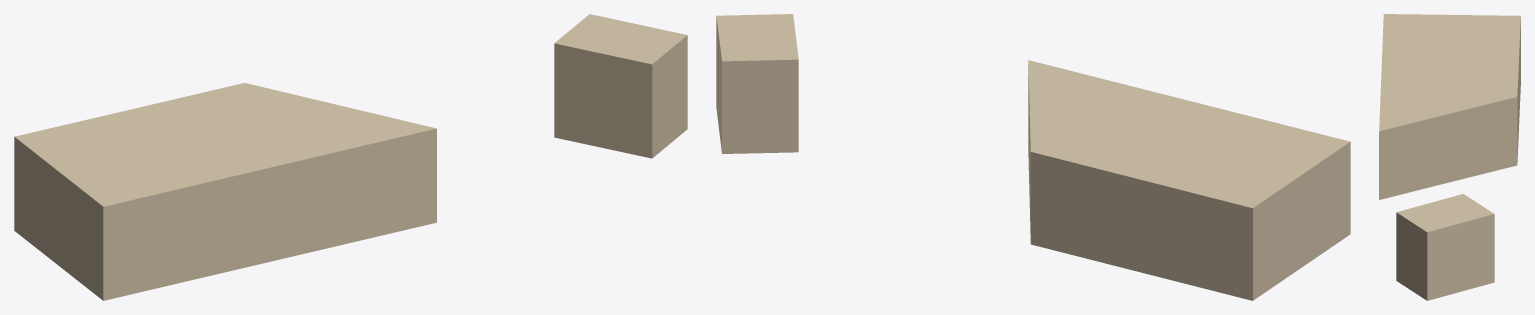
The model's file is city_-1_2.glb.
3 views of the same model, side by side, from view 1: azimuth 30°, elevation 25°; view 2: azimuth 150°, elevation 25°; view 3: azimuth 270°, elevation 25° (orthographic). The views are drawn at different scales.
Visible parts, largest first — view 1: city_-1_2; view 2: city_-1_2; view 3: city_-1_2.
Boxes of the visible parts, left/top/right/bottom form: city_-1_2: left=14, top=14, right=687, bottom=300; city_-1_2: left=716, top=14, right=1350, bottom=300; city_-1_2: left=1379, top=14, right=1520, bottom=300.
Bounding box in the file's own units: 102 × 15 × 28.1.
